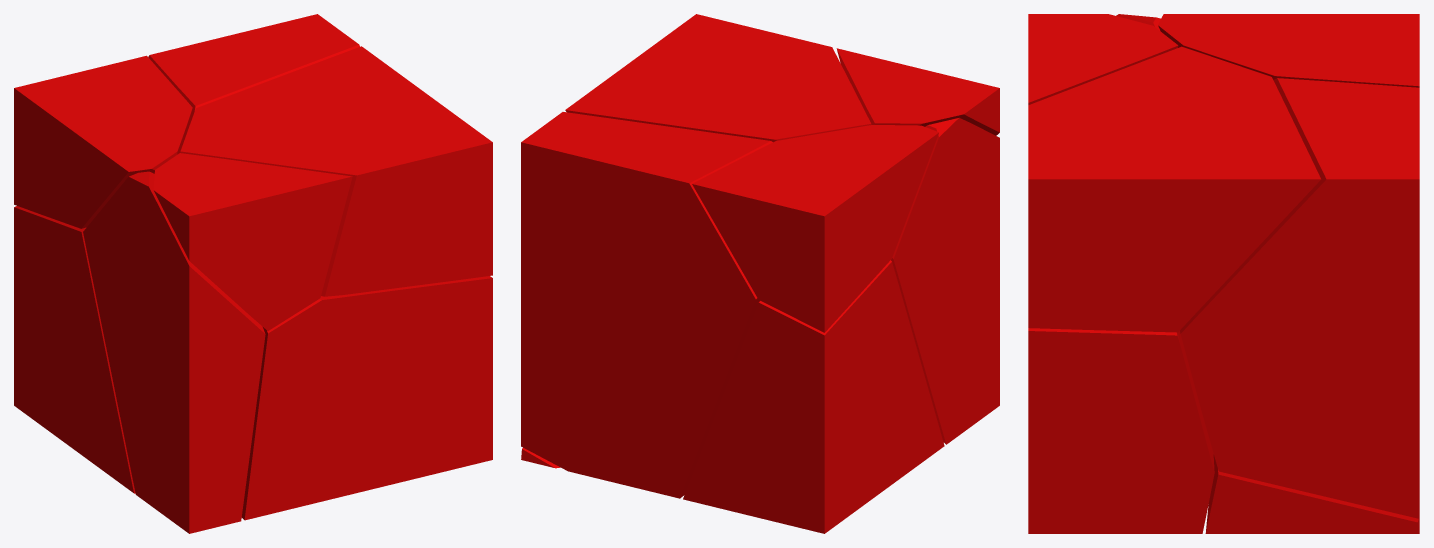
File: tutorial_clash.fbx
The picture shows the model from 3 angles, left to right: view 1: azimuth 30°, elevation 25°; view 2: azimuth 150°, elevation 25°; view 3: azimuth 270°, elevation 25°; orthographic projection. The views are drawn at different scales.
Parts seen in each view (by area): view 1: tutorialobj_clash_cell.004, tutorialobj_clash_cell.005, tutorialobj_clash_cell, tutorialobj_clash_cell.001, tutorialobj_clash_cell.003, tutorialobj_clash_cell.002, tutorialobj_clash_cell.007; view 2: tutorialobj_clash_cell.007, tutorialobj_clash_cell.002, tutorialobj_clash_cell.003, tutorialobj_clash_cell, tutorialobj_clash_cell.005, tutorialobj_clash_cell.001; view 3: tutorialobj_clash_cell.007, tutorialobj_clash_cell.005, tutorialobj_clash_cell.004, tutorialobj_clash_cell.003, tutorialobj_clash_cell.001, tutorialobj_clash_cell.006.
Part boxes in pixels (x1,y1,x2,y2): tutorialobj_clash_cell.004: (241,276,492,520); tutorialobj_clash_cell.005: (180,46,492,296); tutorialobj_clash_cell: (83,171,265,533); tutorialobj_clash_cell.001: (153,153,352,330); tutorialobj_clash_cell.003: (14,55,192,228); tutorialobj_clash_cell.002: (14,206,135,493); tutorialobj_clash_cell.007: (148,14,359,123); tutorialobj_clash_cell.007: (521,112,772,498); tutorialobj_clash_cell.002: (683,260,944,533); tutorialobj_clash_cell.003: (692,125,938,332); tutorialobj_clash_cell: (891,118,999,444); tutorialobj_clash_cell.005: (565,14,871,142); tutorialobj_clash_cell.001: (836,48,999,135); tutorialobj_clash_cell.007: (1180,78,1419,518); tutorialobj_clash_cell.005: (1028,46,1321,332); tutorialobj_clash_cell.004: (1028,328,1214,533); tutorialobj_clash_cell.003: (1158,14,1419,87); tutorialobj_clash_cell.001: (1028,14,1178,104); tutorialobj_clash_cell.006: (1205,454,1419,533).
Size of the model in its own units: 20 by 20 by 20.
